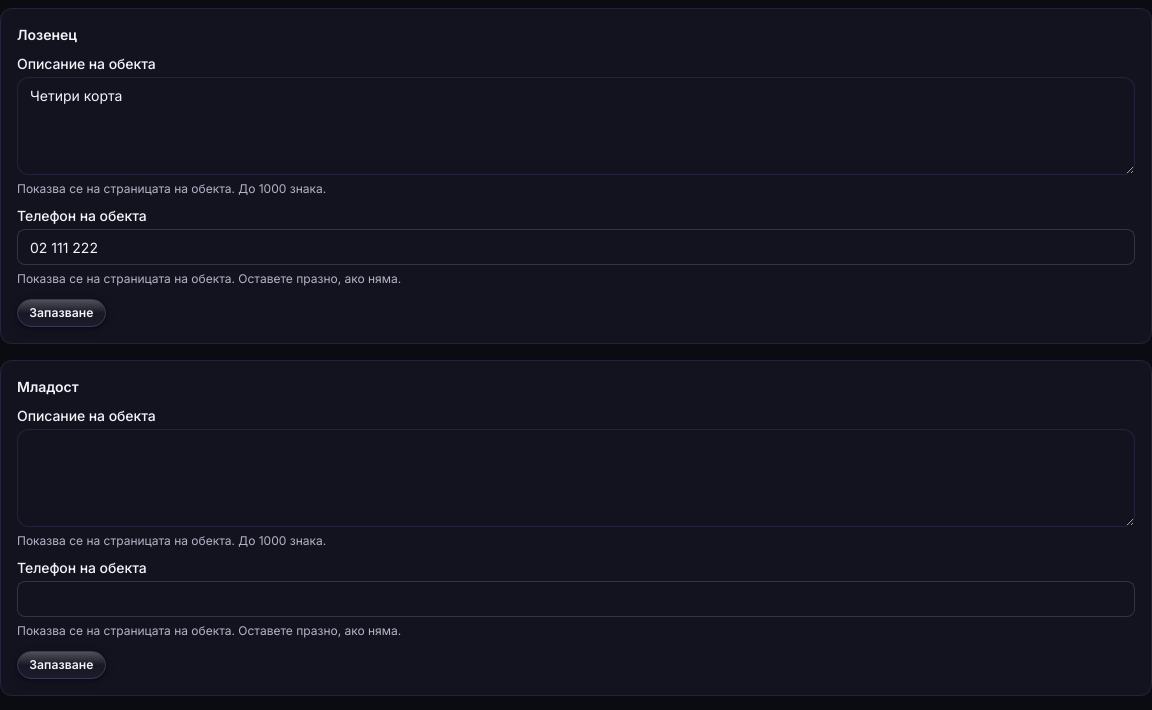
Test: the club’s «Информация» › saves one venue’s description and phone, for that venue only
This screenshot has width=1152, height=710.
(page scrolled)
Type "Два корта" into the text box labelled "Описание на обекта" below "Младост". click: (576, 478)
box: [17,429,1135,527]
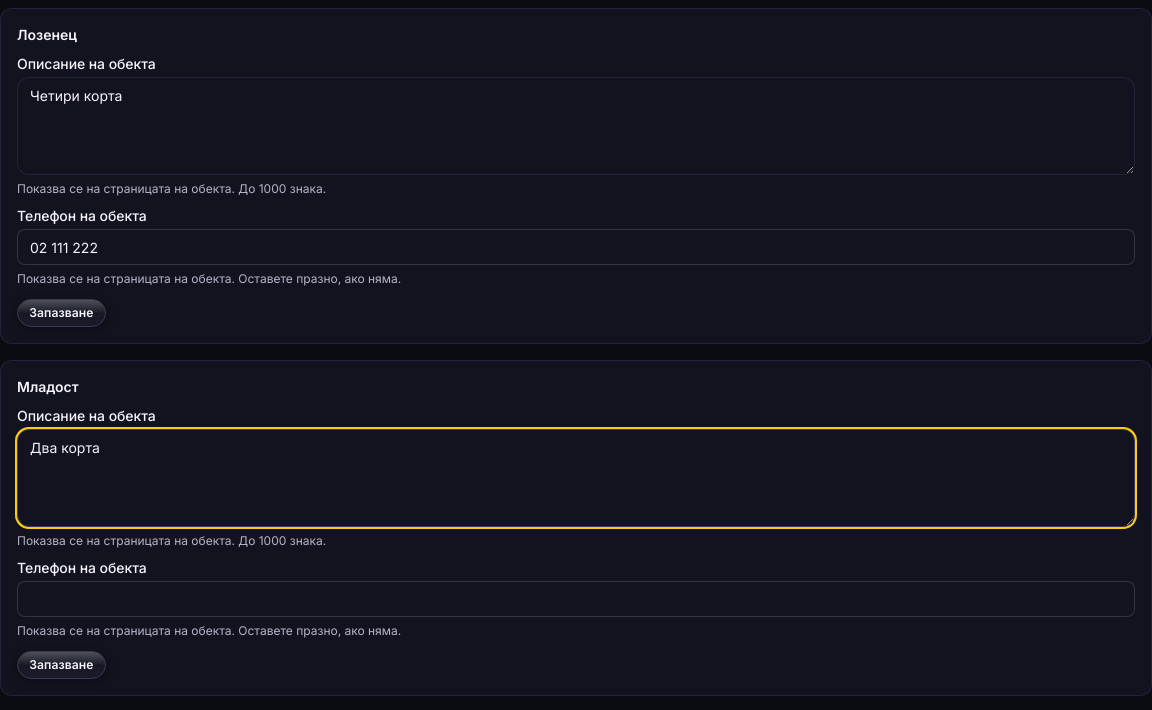
Type "02 333 444" into the field labelled "Телефон на обекта" below "Младост". click: (576, 599)
box: [17,581,1135,617]
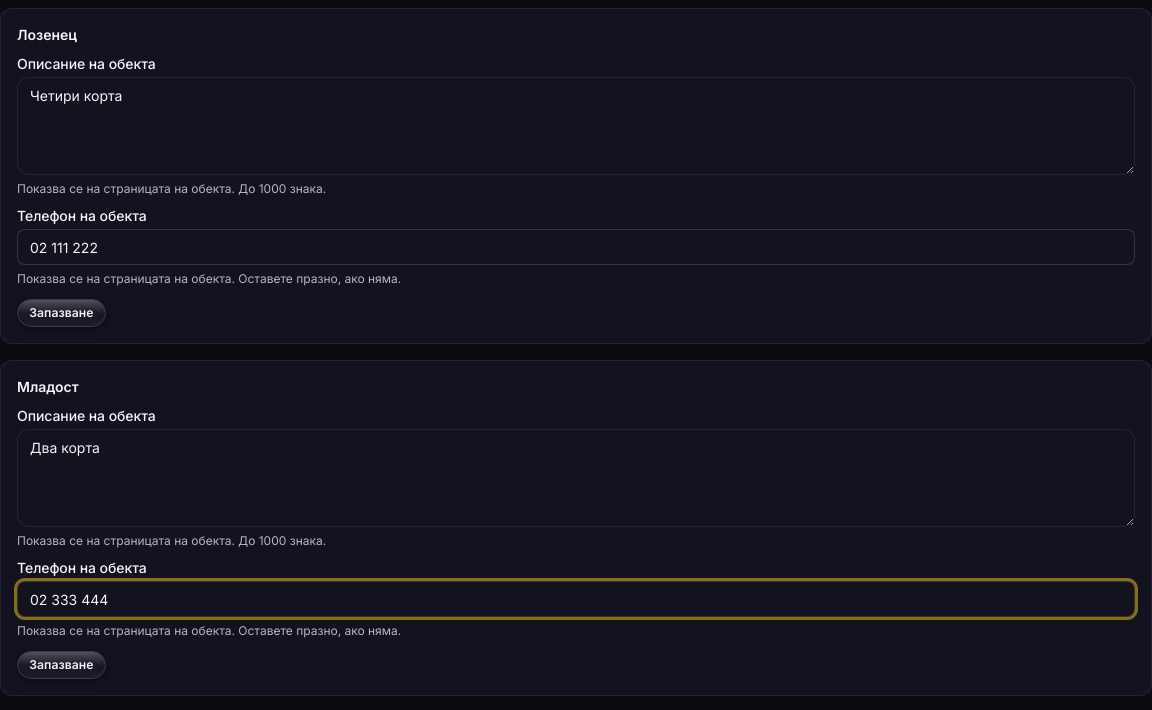
Click the button "Запазване" below "Младост". click: (61, 665)
box: [17,651,106,679]
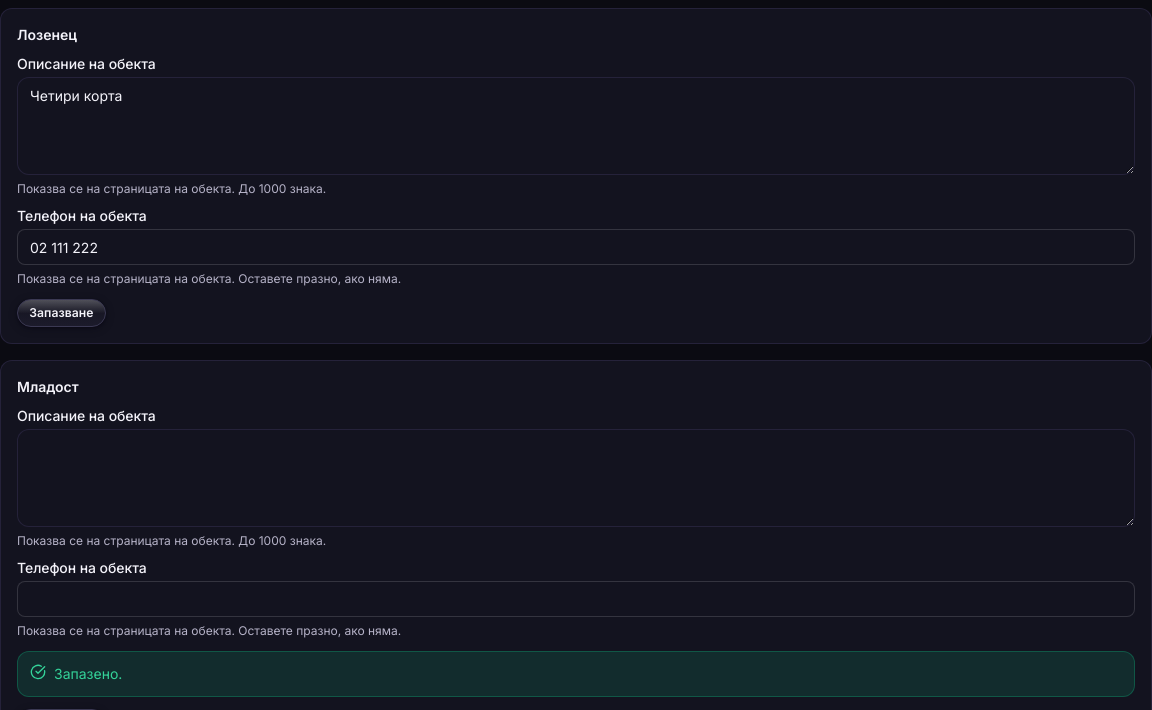
Expected: the text "Запазено." is shown, [54,665,122,682]
